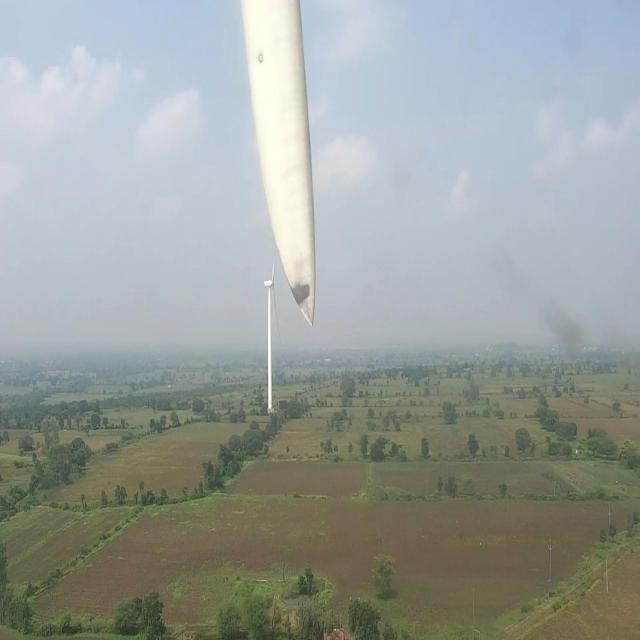oil_leakage: (290, 284, 310, 304)
